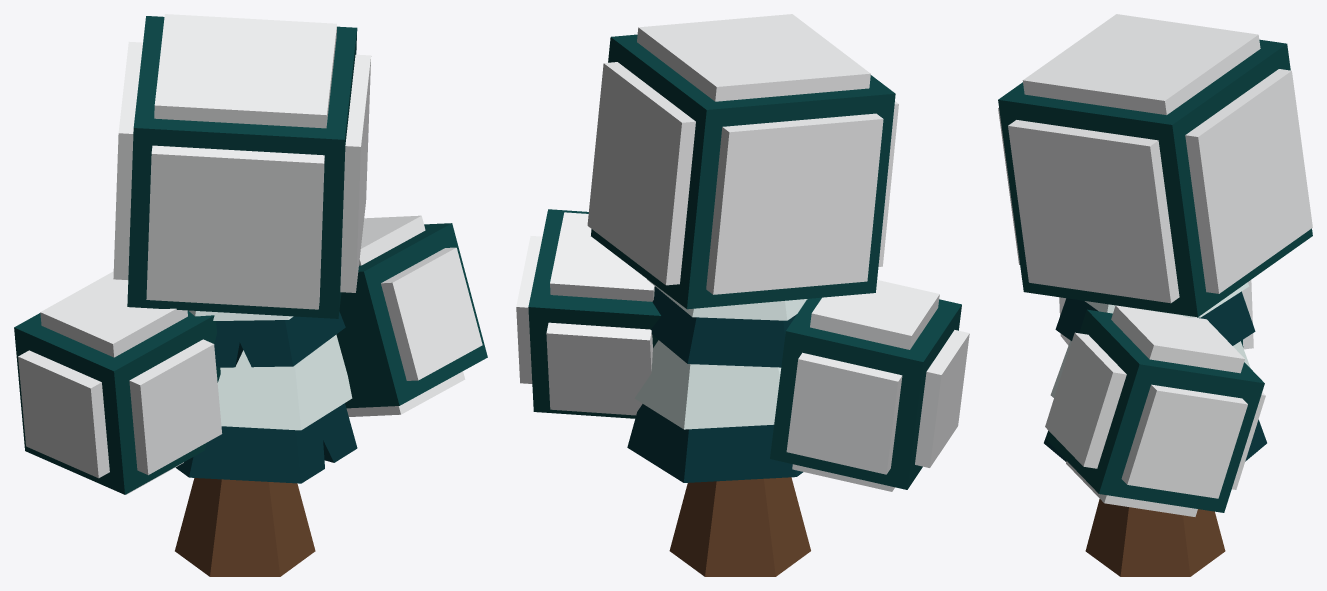
Rendered from trees.glb.
3 renders of one model, left to right at view 1: azimuth 30°, elevation 25°; view 2: azimuth 150°, elevation 25°; view 3: azimuth 270°, elevation 25°, orthographic.
Visible parts, largest first — view 1: Mesh_Tree_Secamore, Mesh_Tree_Fir; view 2: Mesh_Tree_Secamore, Mesh_Tree_Fir; view 3: Mesh_Tree_Secamore, Mesh_Tree_Fir.
Boxes of the visible parts, x1,y1,x2,y2 form: Mesh_Tree_Secamore: (14, 14, 487, 494); Mesh_Tree_Fir: (175, 310, 357, 576); Mesh_Tree_Secamore: (516, 14, 969, 491); Mesh_Tree_Fir: (627, 279, 810, 576); Mesh_Tree_Secamore: (998, 14, 1312, 516); Mesh_Tree_Fir: (1044, 282, 1266, 576).
Bounding box in the file's own units: 1.39 × 1.56 × 0.8845.
1 material, 1 textured.
